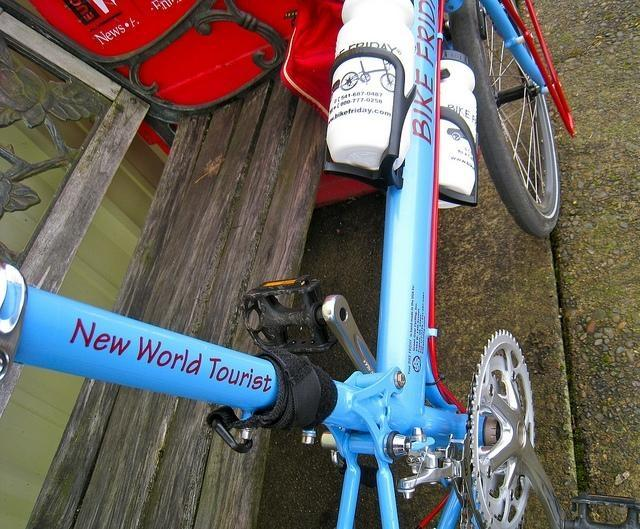bicycle: (0, 2, 640, 529)
